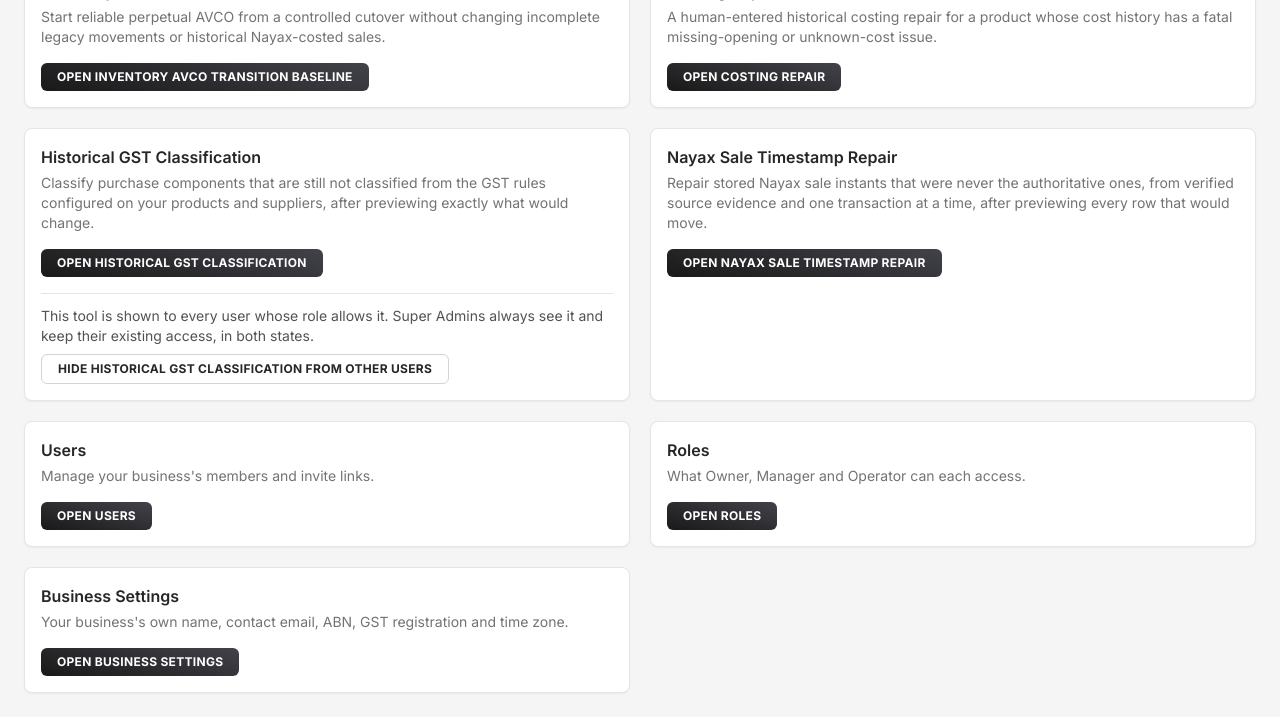
Test case: AdminComponent switchable option visibility (issue #873) › reports a failed save and leaves the option reading exactly as it is stored
(page scrolled)
Click the button with id "historical-gst-classification-visibility".
click(245, 369)  # box [41,354,449,384]
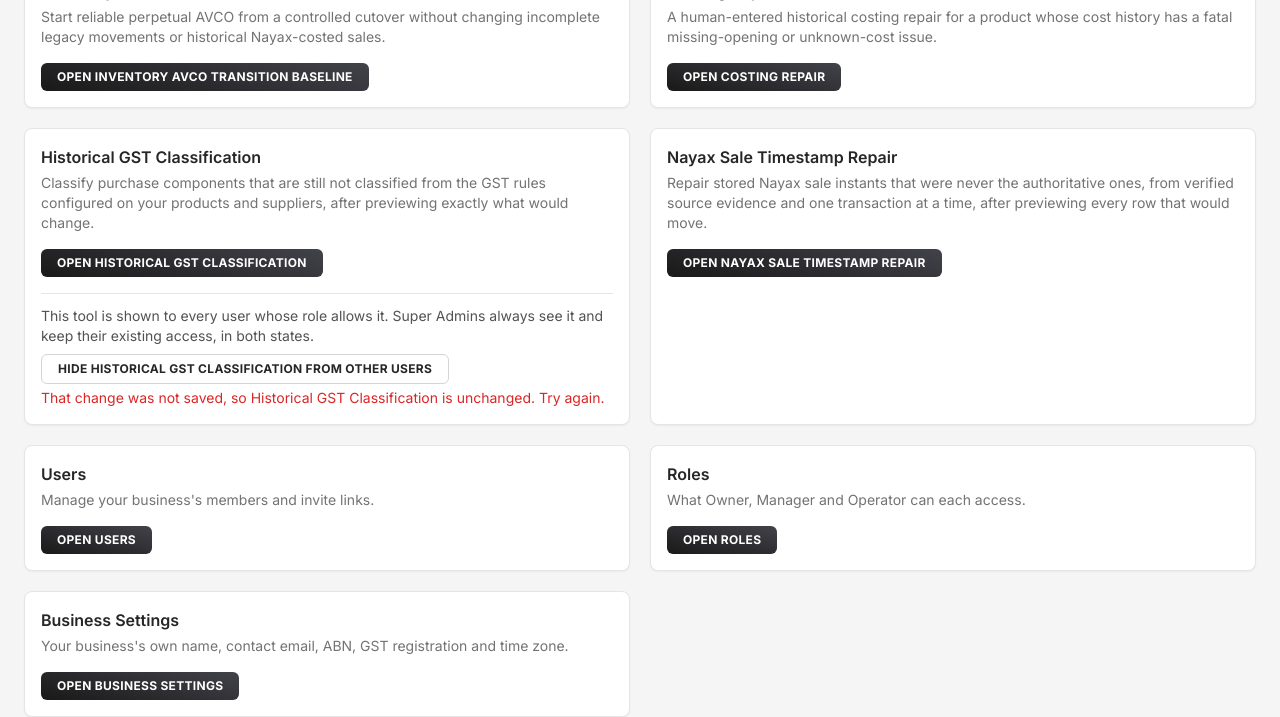
Check: the message shows "was not saved", box [41,389,604,406]
